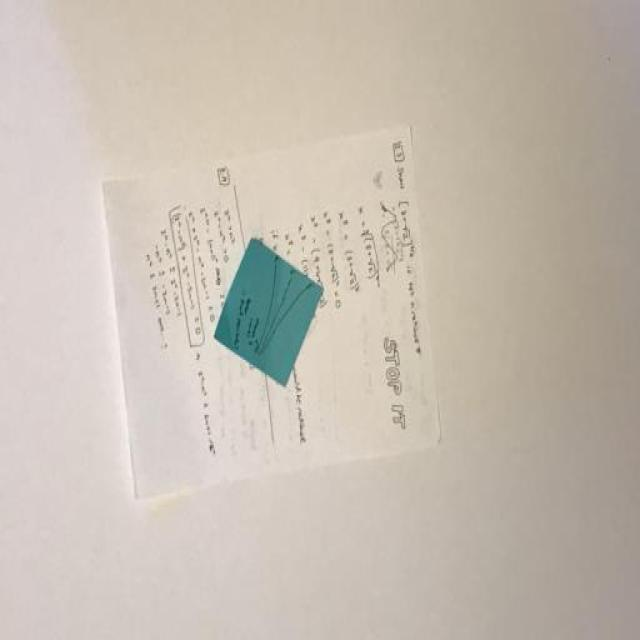paper: (100, 122, 441, 500)
